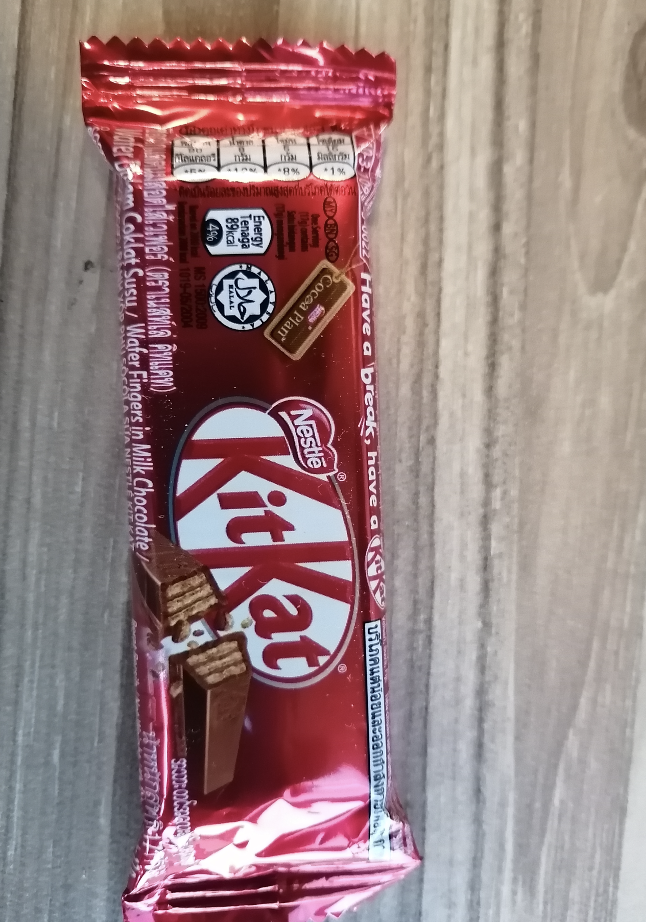Kitkat: (146, 159, 380, 829)
